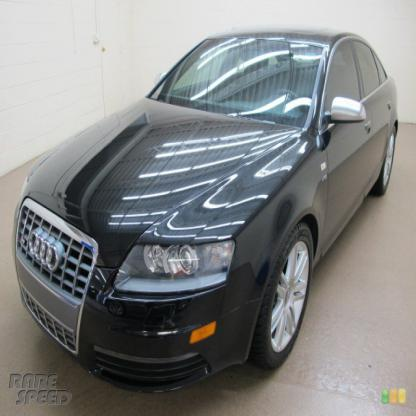Vehicle: (15, 29, 399, 392)
